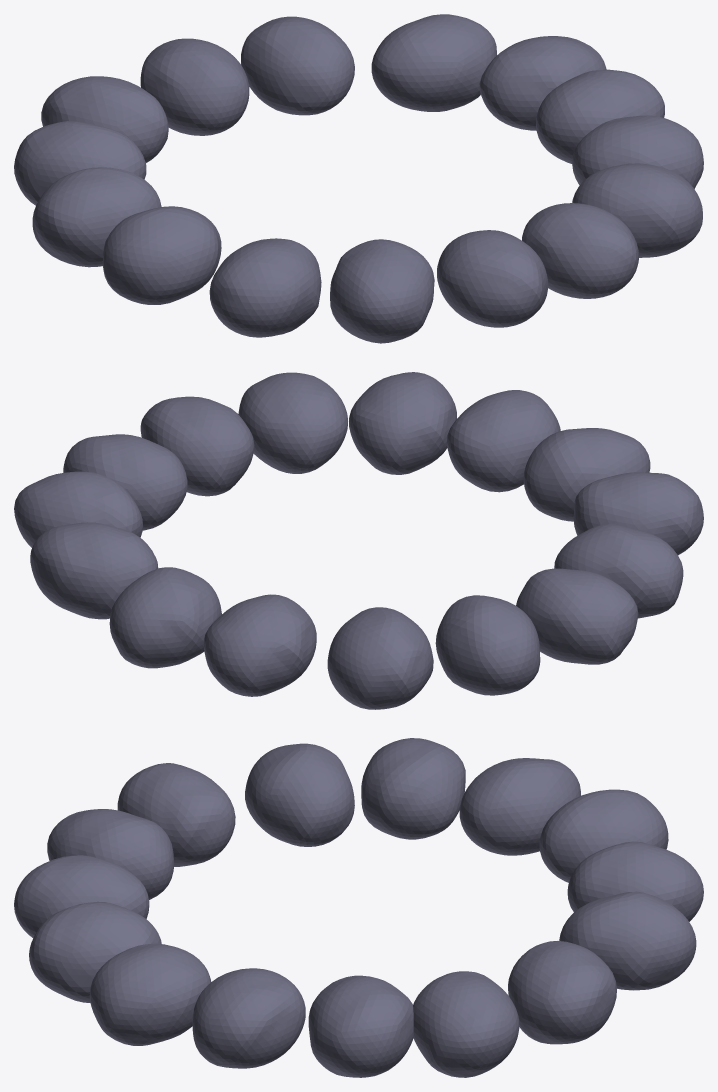
File: RockFireCircle.fbx
3 views of the same model, one above another, from view 1: azimuth 30°, elevation 25°; view 2: azimuth 150°, elevation 25°; view 3: azimuth 270°, elevation 25° (orthographic). The views are drawn at different scales.
Visible parts, largest first — view 1: Rocks; view 2: Rocks; view 3: Rocks.
Boxes of the visible parts, x1,y1,x2,y2 form: Rocks: (14, 14, 703, 343); Rocks: (14, 372, 703, 709); Rocks: (14, 738, 703, 1077).
Size of the model in its own units: 660 by 92.7 by 653.
